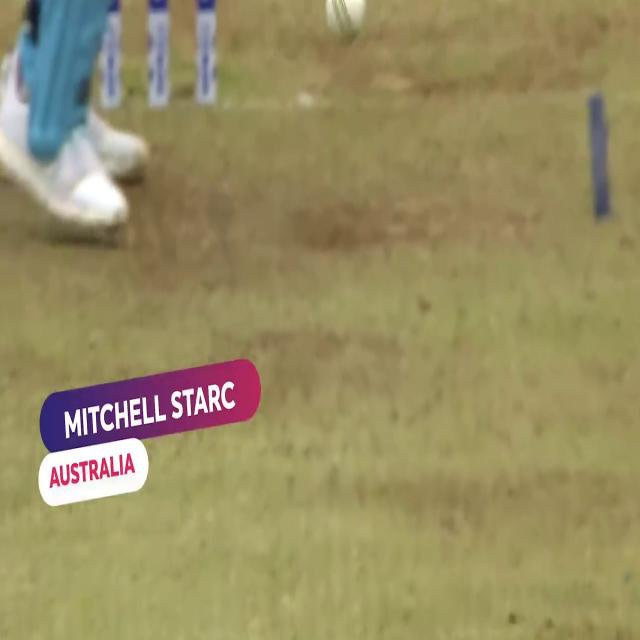ball: (323, 1, 371, 46)
